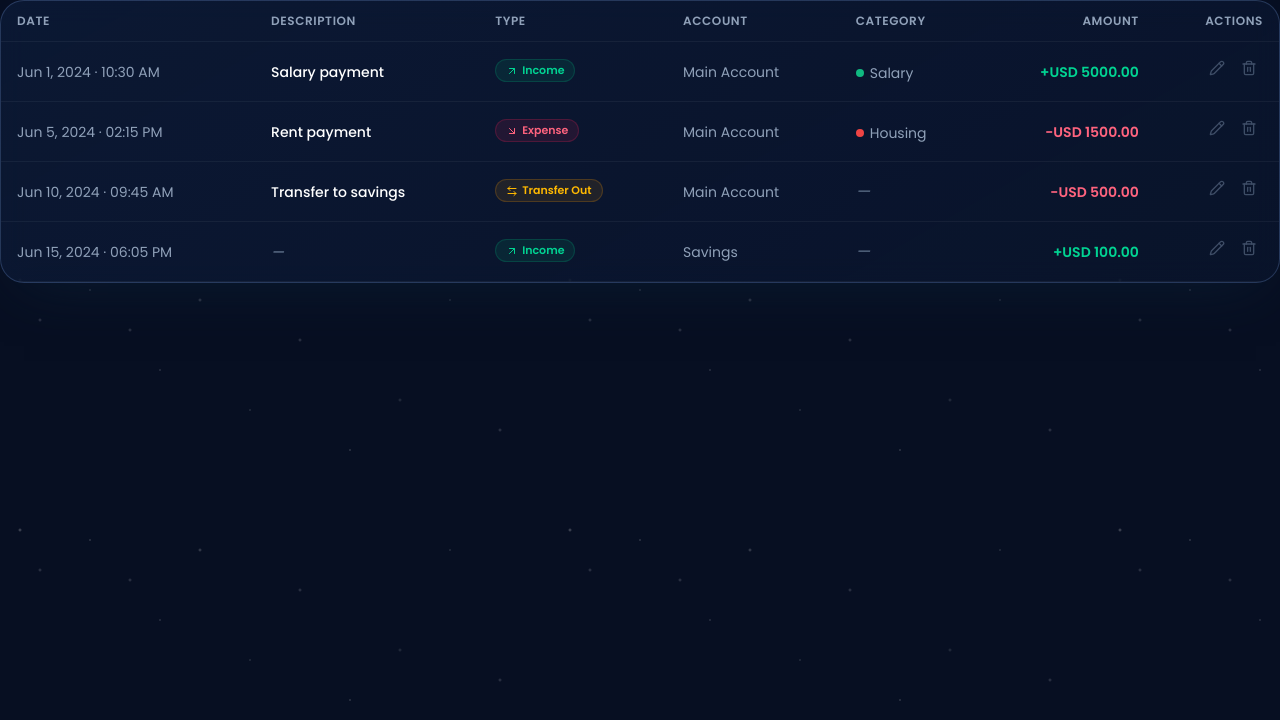
TransactionTable › should open the delete confirmation modal when trash is clicked
The width and height of the screenshot is (1280, 720).
Step 1. Click the button named "Delete transaction" in the row of "Jun 1, 2024" → (1249, 68), box 1235,54 -> 1263,82
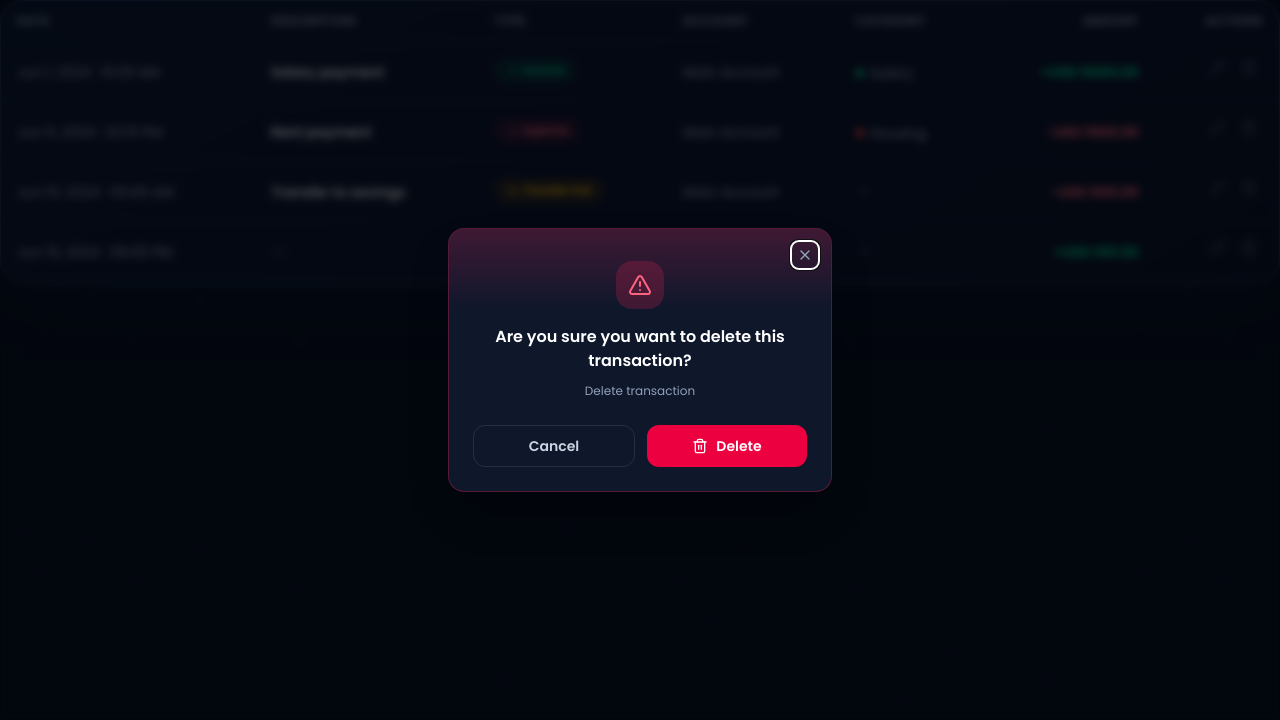
Expected: the heading "Are you sure you want to delete this transaction?" is shown, 473,325 -> 807,373
Expected: the button "Cancel" is shown, 473,425 -> 635,467
Expected: the button "Delete" is shown, 647,425 -> 807,467
